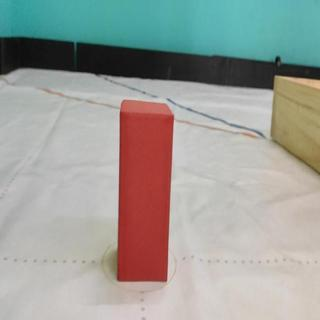redbox: (119, 98, 174, 282)
